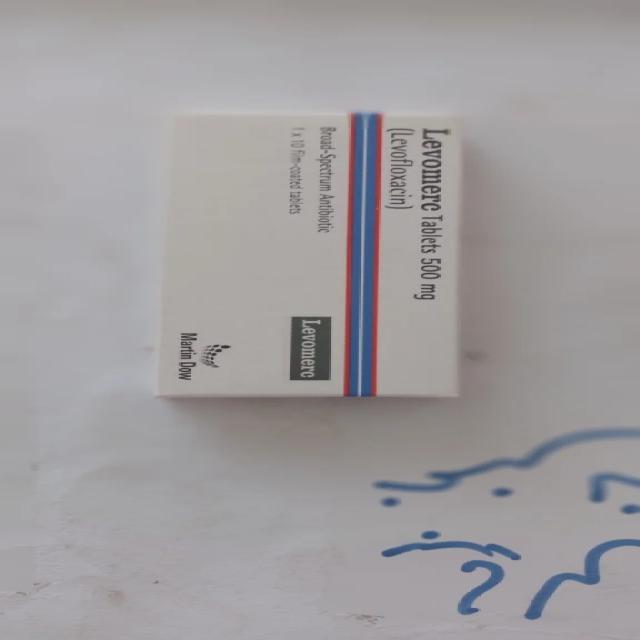drug-name: (294, 316, 324, 381)
